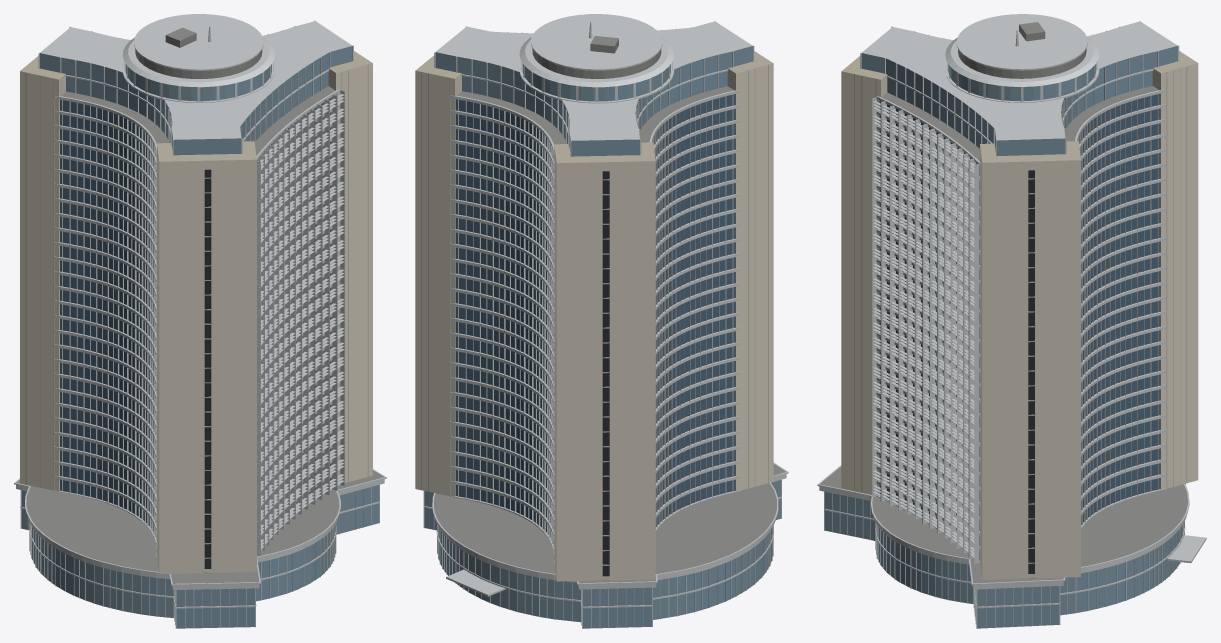
File: empress_state_building.glb
3 renders of one model, left to right at view 1: azimuth 30°, elevation 25°; view 2: azimuth 150°, elevation 25°; view 3: azimuth 270°, elevation 25°, orthographic.
Bounding box in the file's own units: 74.84 × 117 × 78.77.
